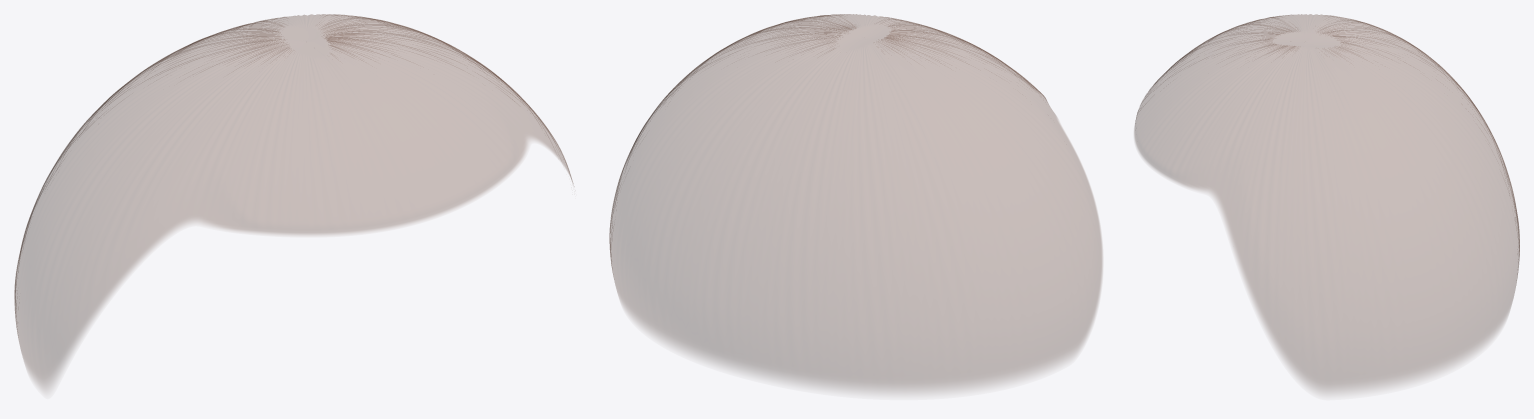
Rendered from Highlights-13c2635cf274252-hair.glb.
3 views of the same model, side by side, from view 1: azimuth 30°, elevation 25°; view 2: azimuth 150°, elevation 25°; view 3: azimuth 270°, elevation 25° (orthographic). The views are drawn at different scales.
Visible parts, largest first — view 1: 226 hair / Hair252 / buzz edge.001; view 2: 226 hair / Hair252 / buzz edge.001; view 3: 226 hair / Hair252 / buzz edge.001.
Boxes of the visible parts, x1,y1,x2,y2 form: 226 hair / Hair252 / buzz edge.001: [14, 14, 573, 389]; 226 hair / Hair252 / buzz edge.001: [609, 14, 1102, 392]; 226 hair / Hair252 / buzz edge.001: [1134, 14, 1519, 392].
Size of the model in its own units: 0.9886 by 0.574 by 0.761.
Materials: 1 (1 with a texture image).
